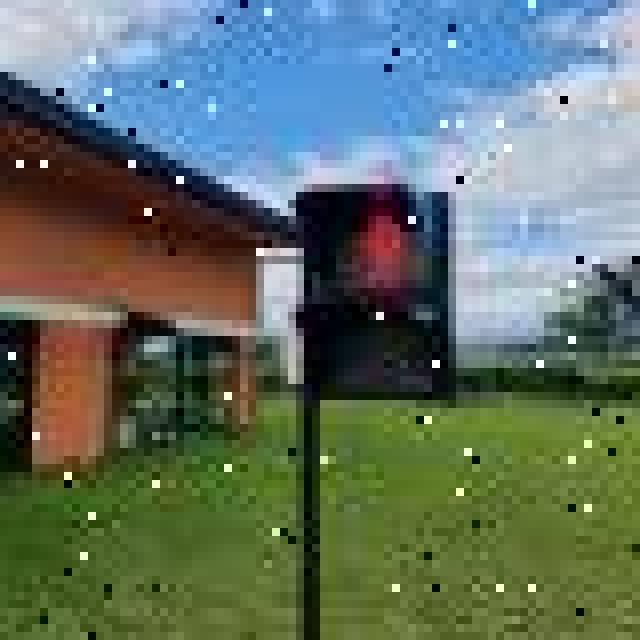redlight: (300, 186, 458, 414)
